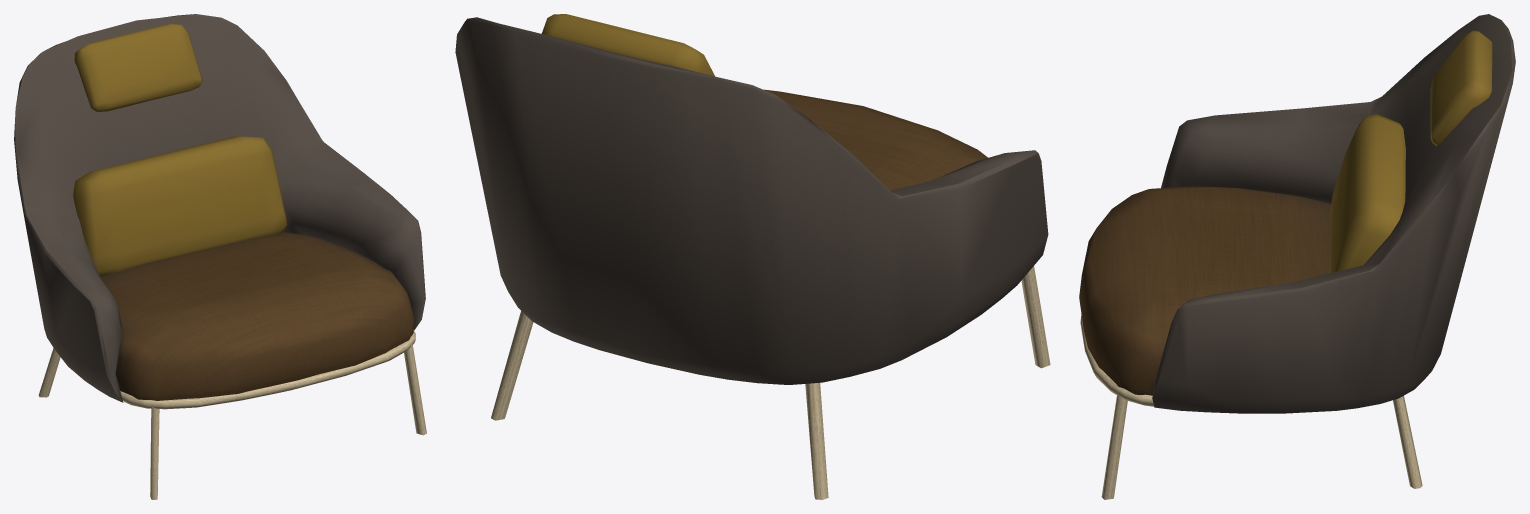
File: LoungeChair3_1.fbx
3 views of the same model, side by side, from view 1: azimuth 30°, elevation 25°; view 2: azimuth 150°, elevation 25°; view 3: azimuth 270°, elevation 25° (orthographic). The views are drawn at different scales.
Visible parts, largest first — view 1: LoungeChair; view 2: LoungeChair; view 3: LoungeChair.
Part boxes in pixels (x1,y1,x2,y2): LoungeChair: (14, 14, 426, 499); LoungeChair: (455, 14, 1050, 499); LoungeChair: (1079, 14, 1515, 499).
Bounding box in the file's own units: 83.37 × 76.49 × 82.52.
